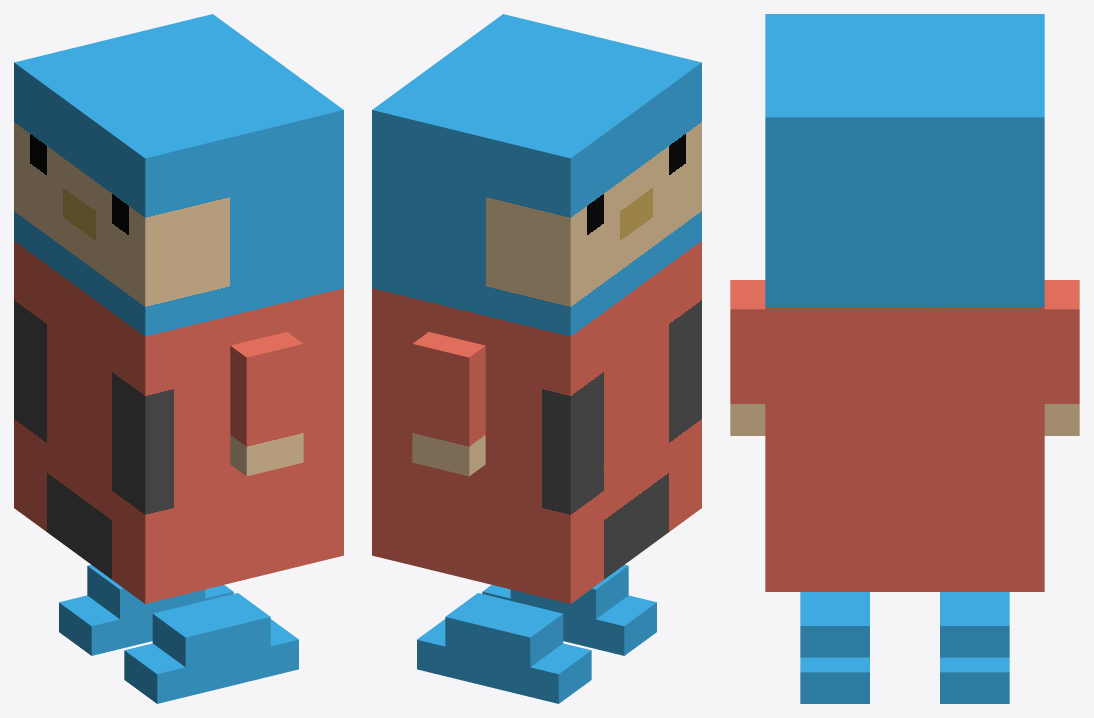
The model's file is Player_12.fbx.
3 views of the same model, side by side, from view 1: azimuth 30°, elevation 25°; view 2: azimuth 150°, elevation 25°; view 3: azimuth 270°, elevation 25° (orthographic). The views are drawn at different scales.
Parts seen in each view (by area): view 1: Main, LeftFoot, LeftHand, RightFoot; view 2: Main, RightFoot, RightHand, LeftFoot; view 3: Main, LeftFoot, RightFoot, RightHand, LeftHand.
Boxes of the visible parts, box(x1,y1,x2,y2) form: Main: box(14, 14, 343, 603); LeftFoot: box(124, 593, 298, 703); LeftHand: box(230, 332, 303, 476); RightFoot: box(59, 564, 233, 655); Main: box(372, 14, 701, 603); RightFoot: box(417, 593, 591, 703); RightHand: box(412, 332, 485, 476); LeftFoot: box(482, 564, 656, 655); Main: box(765, 14, 1044, 591); LeftFoot: box(800, 592, 869, 703); RightFoot: box(940, 592, 1009, 703); RightHand: box(1044, 280, 1079, 435); LeftHand: box(730, 280, 765, 435).
Size of the model in its own units: 7 by 19 by 10.
Materials: 1 (1 with a texture image).
